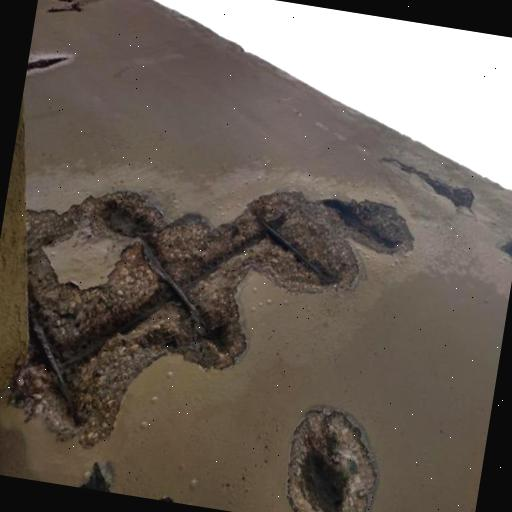spalling: (16, 192, 425, 442), (276, 399, 392, 512)
